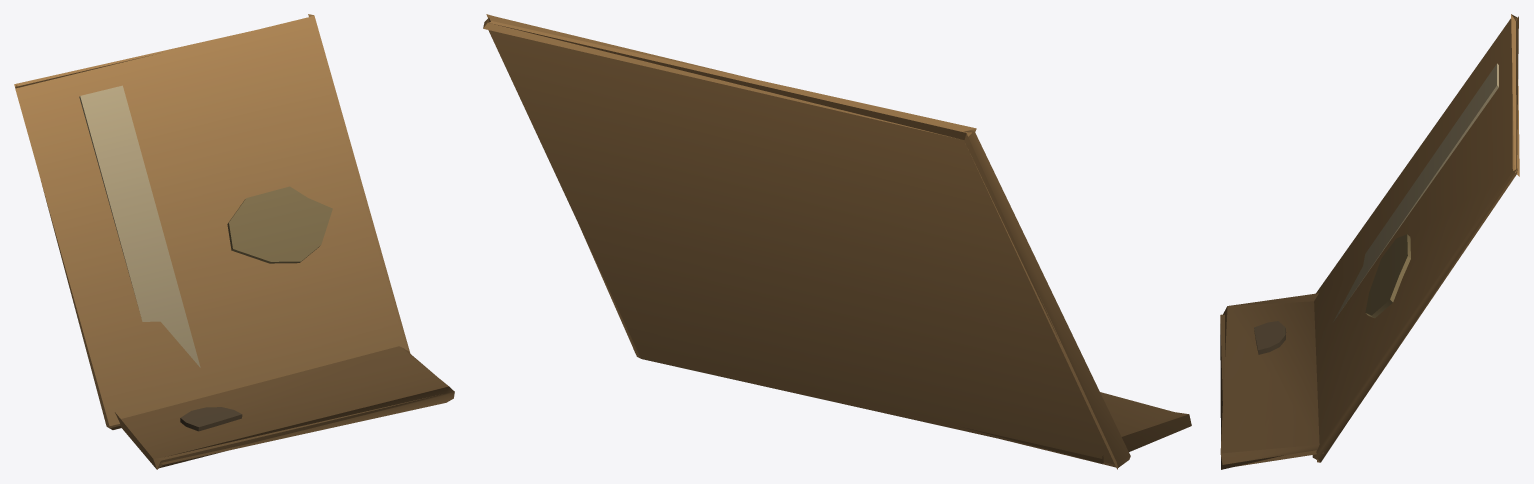
Rendered from 22b_carton_aplati.fbx.
3 renders of one model, left to right at view 1: azimuth 30°, elevation 25°; view 2: azimuth 150°, elevation 25°; view 3: azimuth 270°, elevation 25°, orthographic. The views are drawn at different scales.
Parts seen in each view (by area): view 1: Carton; view 2: Carton; view 3: Carton.
Boxes of the visible parts, x1=… form: Carton: x1=14, y1=14, x2=454, y2=469; Carton: x1=483, y1=14, x2=1191, y2=469; Carton: x1=1220, y1=14, x2=1519, y2=469.
Size of the model in its own units: 0.588 by 0.532 by 0.476.
1 material, 1 textured.
